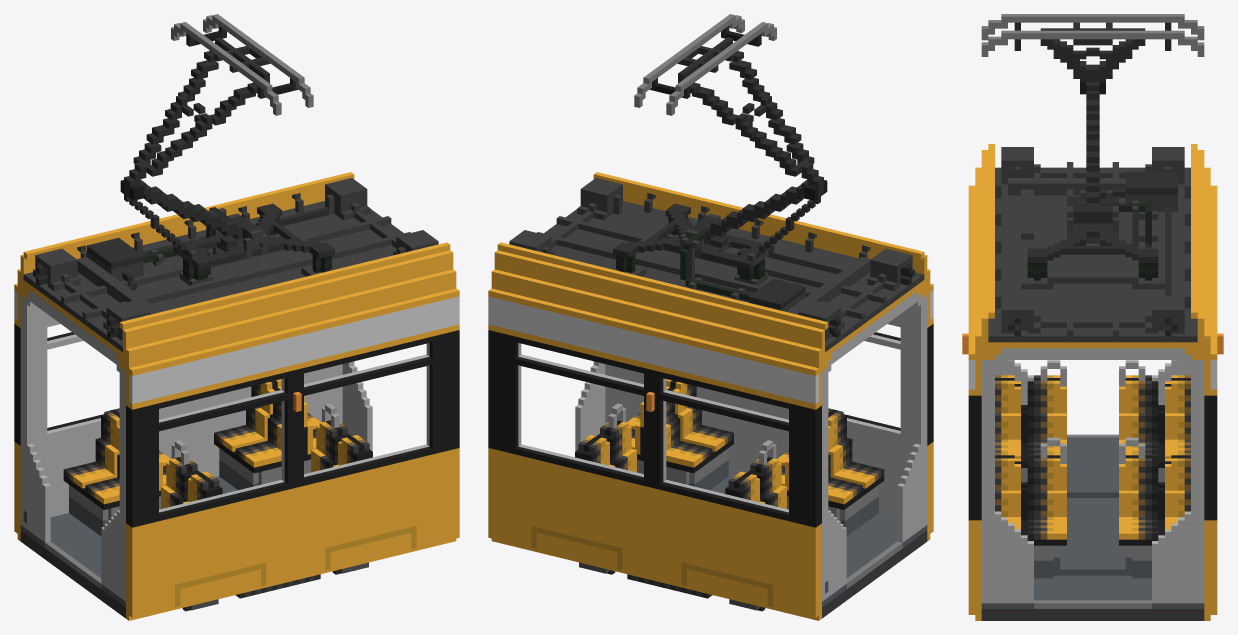
File: ngtcenter.obj
3 renders of one model, left to right at view 1: azimuth 30°, elevation 25°; view 2: azimuth 150°, elevation 25°; view 3: azimuth 270°, elevation 25°, orthographic. The views are drawn at different scales.
Parts seen in each view (by area): view 1: FRAME; view 2: FRAME; view 3: FRAME.
Part boxes in pixels (<box>): FRAME: <box>14,14,459,620</box>; FRAME: <box>488,14,933,620</box>; FRAME: <box>962,14,1223,620</box>.
Bounding box in the file's own units: 3.81 × 5.69 × 2.5.
1 material, 1 textured.
